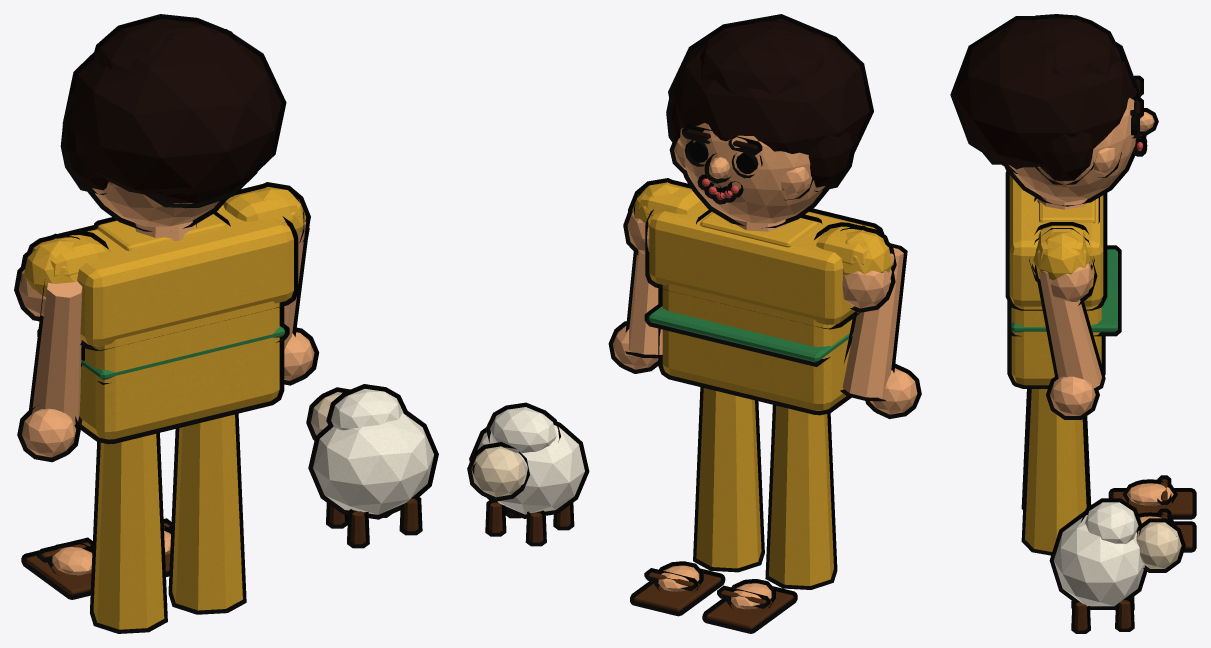
File: david_mentor_v10.glb
3 renders of one model, left to right at view 1: azimuth 30°, elevation 25°; view 2: azimuth 150°, elevation 25°; view 3: azimuth 270°, elevation 25°, orthographic. The views are drawn at different scales.
Parts seen in each view (by area): view 1: David_Mentor, David_Mentor_Outline; view 2: David_Mentor, David_Mentor_Outline; view 3: David_Mentor, David_Mentor_Outline.
Boxes of the visible parts, box(x1,y1,x2,y2) form: David_Mentor: box(18, 19, 433, 629); David_Mentor_Outline: box(14, 14, 438, 633); David_Mentor: box(471, 18, 917, 629); David_Mentor_Outline: box(467, 14, 921, 633); David_Mentor: box(954, 18, 1192, 630); David_Mentor_Outline: box(950, 14, 1196, 633).
Bounding box in the file's own units: 0.8446 × 1.06 × 0.4725.
10 materials, 10 textured.
